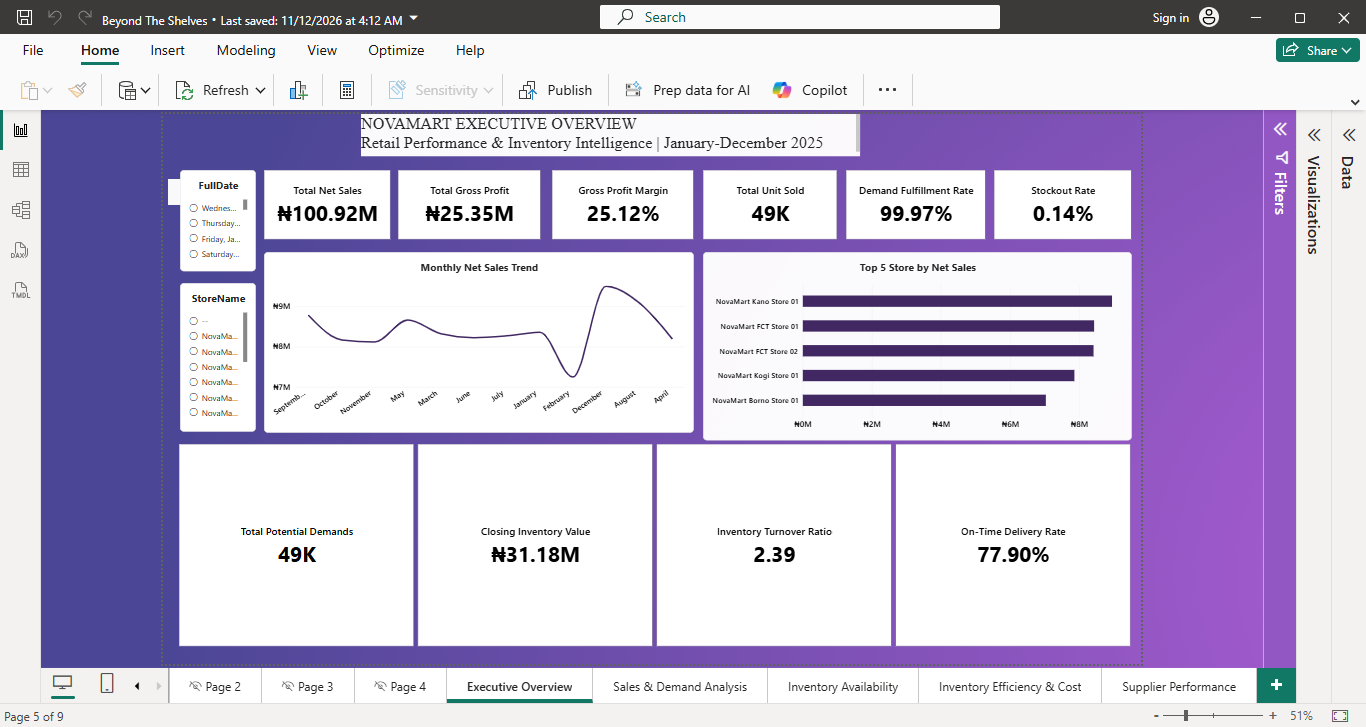

What the dashboard file says about the page in this screenshot:
{"tool":"powerbi","page":{"name":"Executive Overview","canvas":[1920,1080],"ordinal":4},"visuals":[{"type":"textbox","box":[389.1,0,980.1,82.9],"z":0},{"type":"textbox","box":[10.6,127.6,170.1,51],"z":1000},{"type":"listSlicer","fields":{"Values":["DimDate.FullDate"]},"box":[32.4,110.2,149,198.7],"z":2000},{"type":"listSlicer","fields":{"Values":["DimStore.StoreName"]},"box":[32.4,332.6,149,291.6],"z":3000},{"type":"cardVisual","fields":{"Data":["FactSales.Total Net Sales"]},"box":[197.7,110.6,248.7,136.1],"z":4000},{"type":"cardVisual","fields":{"Data":["FactSales.Total Gross Profit"]},"box":[461.3,110.6,280.6,136.1],"z":5000},{"type":"cardVisual","fields":{"Data":["FactSales.Gross Profit Margin"]},"box":[763.2,110.6,278.5,136.1],"z":6000},{"type":"cardVisual","fields":{"Data":["FactSales.Total Unit Sold"]},"box":[1060.9,110.6,263.6,136.1],"z":7000},{"type":"cardVisual","fields":{"Data":["FactDemand.Demand Fulfillment Rate"]},"box":[1341.5,110.6,274.3,136.1],"z":8000},{"type":"cardVisual","fields":{"Data":["FactInventorySnapshot.Stockout Rate"]},"box":[1632.8,110.6,270,136.1],"z":9000},{"type":"lineChart","title":"Monthly Net Sales Trend","fields":{"Category":["DimDate.MonthName"],"Y":["FactSales.Total Net Sales"]},"box":[197.7,270,844,355],"z":10000},{"type":"clusteredBarChart","title":"Top 5 Store by Net Sales","fields":{"Category":["DimStore.StoreName"],"Y":["FactSales.Total Net Sales"]},"box":[1060.9,270,841.9,369.9],"z":12000},{"type":"cardVisual","fields":{"Data":["FactDemand.Total Potential Demands","FactInventorySnapshot.Closing Inventory Value","DimCategory.Inventory Turnover Ratio","DimCategory.On-Time Delivery Rate"]},"box":[31.9,648.4,1870.9,397.6],"z":13000}]}

Visuals, with their boxes on the page's 1920x1080 design canvas (x1, y1, x2, y2). These are canvas units, not pixel positions in the 1366x727 screenshot, which may show the page scaled, cropped or inside an application window:
textbox: <region>389, 0, 1369, 83</region>
textbox: <region>11, 128, 181, 179</region>
listSlicer - DimDate.FullDate: <region>32, 110, 181, 309</region>
listSlicer - DimStore.StoreName: <region>32, 333, 181, 624</region>
cardVisual - FactSales.Total Net Sales: <region>198, 111, 446, 247</region>
cardVisual - FactSales.Total Gross Profit: <region>461, 111, 742, 247</region>
cardVisual - FactSales.Gross Profit Margin: <region>763, 111, 1042, 247</region>
cardVisual - FactSales.Total Unit Sold: <region>1061, 111, 1324, 247</region>
cardVisual - FactDemand.Demand Fulfillment Rate: <region>1342, 111, 1616, 247</region>
cardVisual - FactInventorySnapshot.Stockout Rate: <region>1633, 111, 1903, 247</region>
"Monthly Net Sales Trend" lineChart: <region>198, 270, 1042, 625</region>
"Top 5 Store by Net Sales" clusteredBarChart: <region>1061, 270, 1903, 640</region>
cardVisual - FactDemand.Total Potential Demands x FactInventorySnapshot.Closing Inventory Value: <region>32, 648, 1903, 1046</region>
